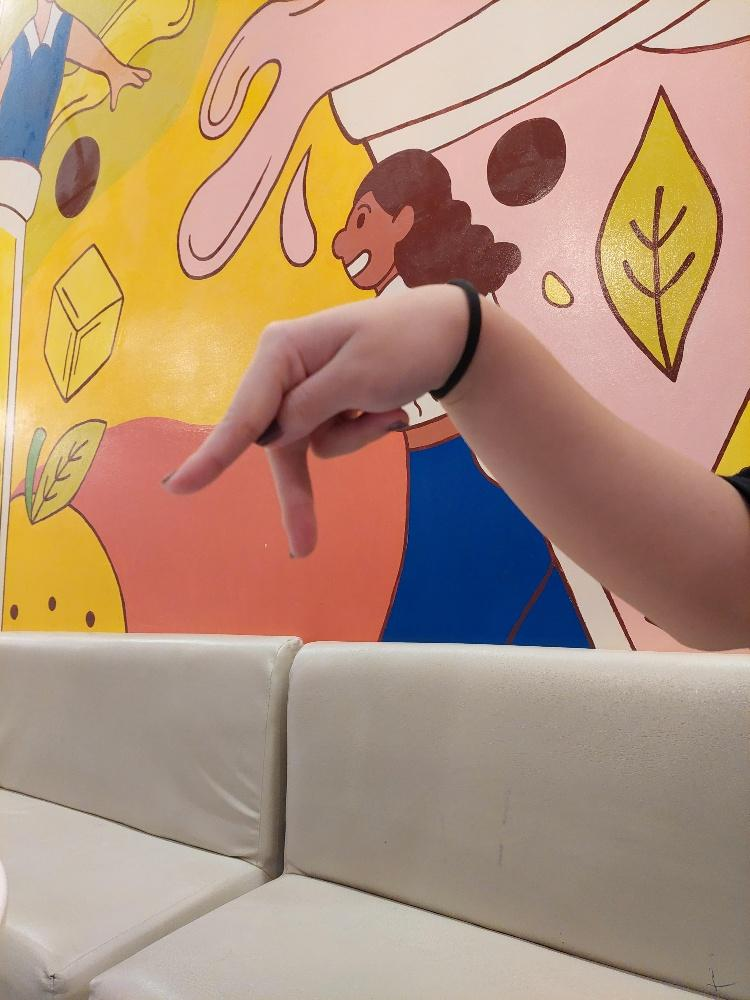p: (156, 274, 472, 561)
